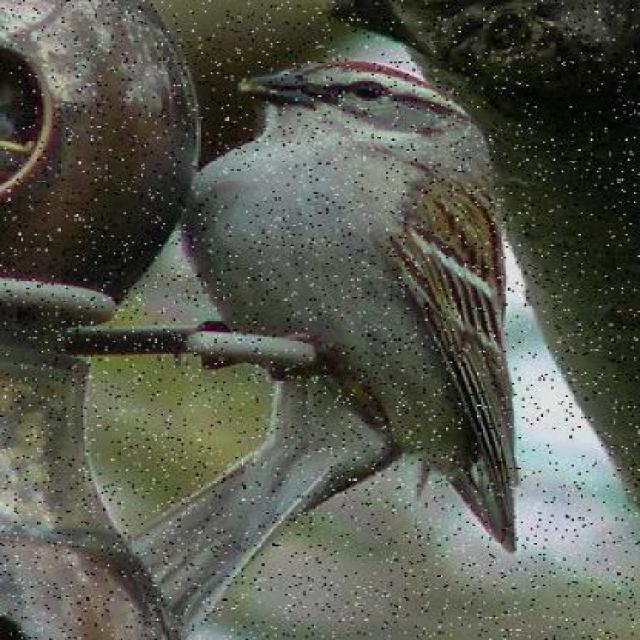Bird: (172, 53, 525, 562)
